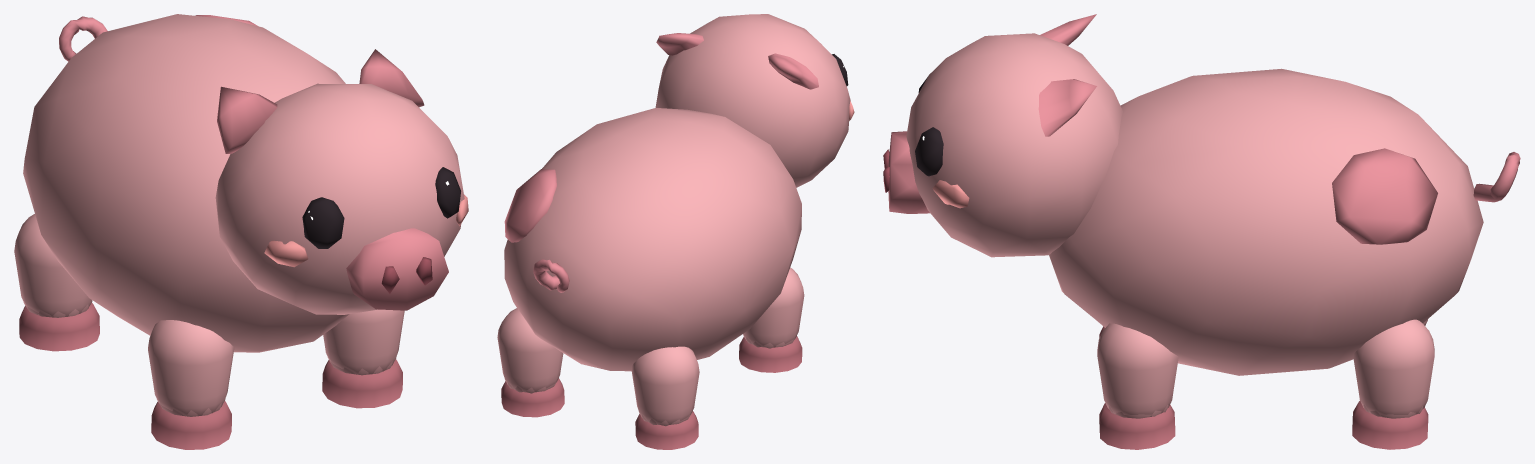
Rendered from animal_pig.glb.
3 views of the same model, side by side, from view 1: azimuth 30°, elevation 25°; view 2: azimuth 150°, elevation 25°; view 3: azimuth 270°, elevation 25° (orthographic). The views are drawn at different scales.
Parts seen in each view (by area): view 1: body_body, head_body, thigh, thigh.002, thigh.001, knee_BR_body, knee_FL_body, knee_FR_body, ear, ear.001, tail.001; view 2: body_body, head_body, thigh.002, thigh.003, thigh, knee_FR_body, knee_BL_body, knee_BR_body, ear, tail.001, ear.001; view 3: body_body, head_body, thigh.003, thigh.001, knee_BL_body, knee_FL_body, ear.001, tail.001, ear.
Part boxes in pixels (<box>): body_body: <box>23,14,349,352</box>; head_body: <box>215,83,468,314</box>; thigh: <box>148,320,234,416</box>; thigh.002: <box>14,214,91,317</box>; thigh.001: <box>323,309,404,374</box>; knee_BR_body: <box>19,300,99,351</box>; knee_FL_body: <box>322,357,402,408</box>; knee_FR_body: <box>151,399,231,449</box>; ear: <box>217,86,277,153</box>; ear.001: <box>359,49,424,107</box>; tail.001: <box>59,16,107,61</box>; body_body: <box>504,108,801,371</box>; head_body: <box>655,14,854,187</box>; thigh.002: <box>631,346,699,424</box>; thigh.003: <box>497,308,563,392</box>; thigh: <box>743,267,804,347</box>; knee_FR_body: <box>739,334,802,372</box>; knee_BL_body: <box>501,378,564,417</box>; knee_BR_body: <box>635,411,698,449</box>; ear: <box>768,53,818,89</box>; tail.001: <box>533,259,569,292</box>; ear.001: <box>656,33,703,55</box>; body_body: <box>1049,68,1483,375</box>; head_body: <box>883,33,1122,257</box>; thigh.003: <box>1353,319,1434,416</box>; thigh.001: <box>1097,323,1178,416</box>; knee_BL_body: <box>1352,401,1428,449</box>; knee_FL_body: <box>1099,403,1175,449</box>; ear.001: <box>1038,79,1096,136</box>; tail.001: <box>1473,152,1520,202</box>; ear: <box>1040,14,1096,45</box>.
Bounding box in the file's own units: 0.5873 × 0.6944 × 1.15.
